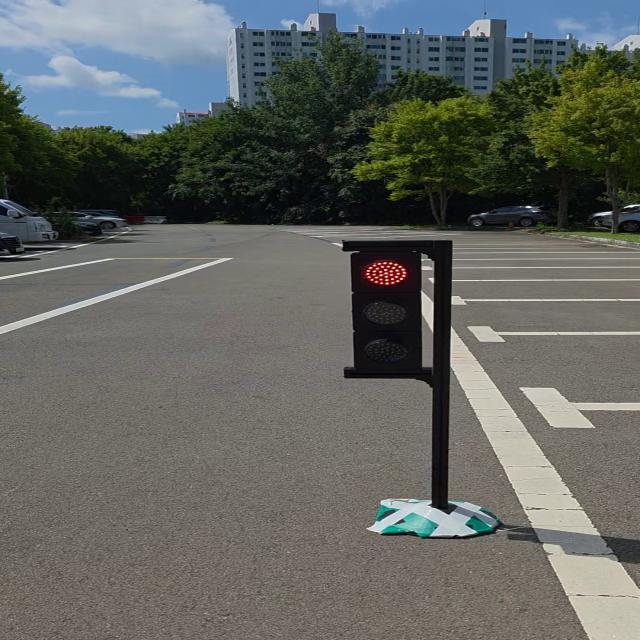red: (344, 247, 434, 378)
